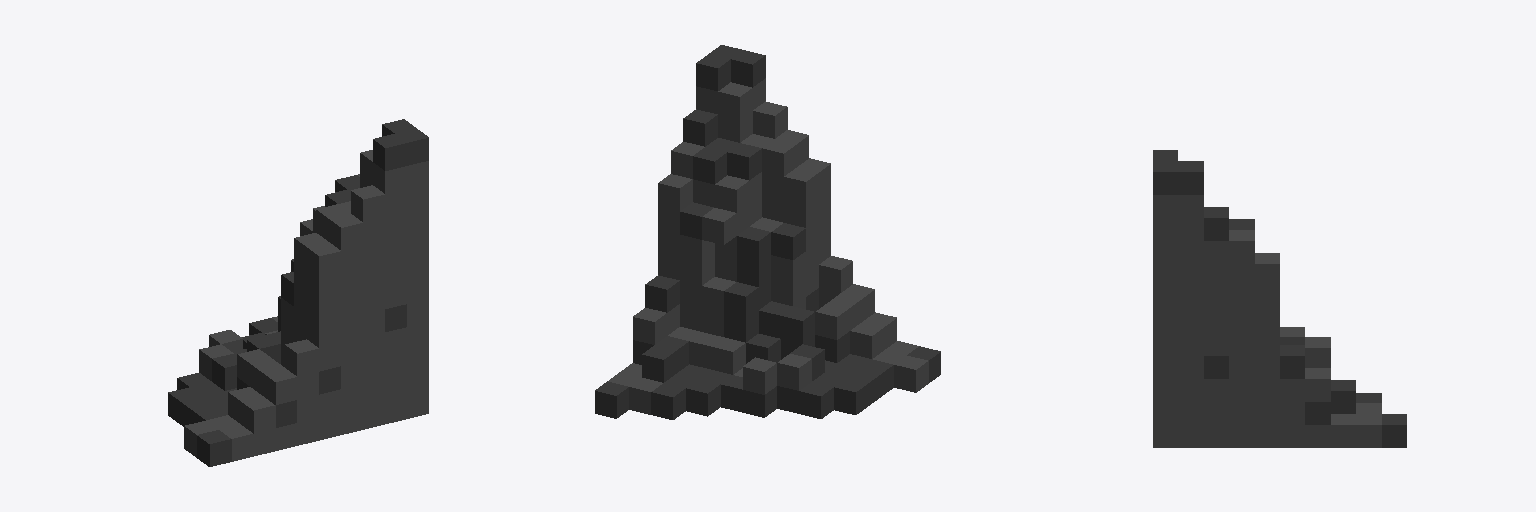
3 renders of one model, left to right at view 1: azimuth 30°, elevation 25°; view 2: azimuth 150°, elevation 25°; view 3: azimuth 270°, elevation 25°, orthographic.
Parts seen in each view (by area): view 1: object 1; view 2: object 1; view 3: object 1.
Boxes of the visible parts, x1=… form: object 1: x1=168, y1=119, x2=428, y2=466; object 1: x1=595, y1=45, x2=940, y2=419; object 1: x1=1153, y1=150, x2=1406, y2=447.
Bounding box in the file's own units: 1 × 1.2 × 1.
1 materials, 1 textured.